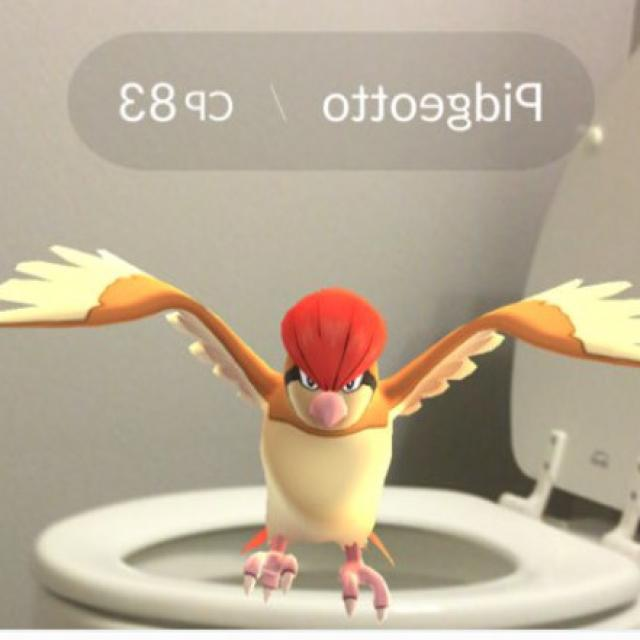Pidgeotto: (120, 286, 543, 556)
